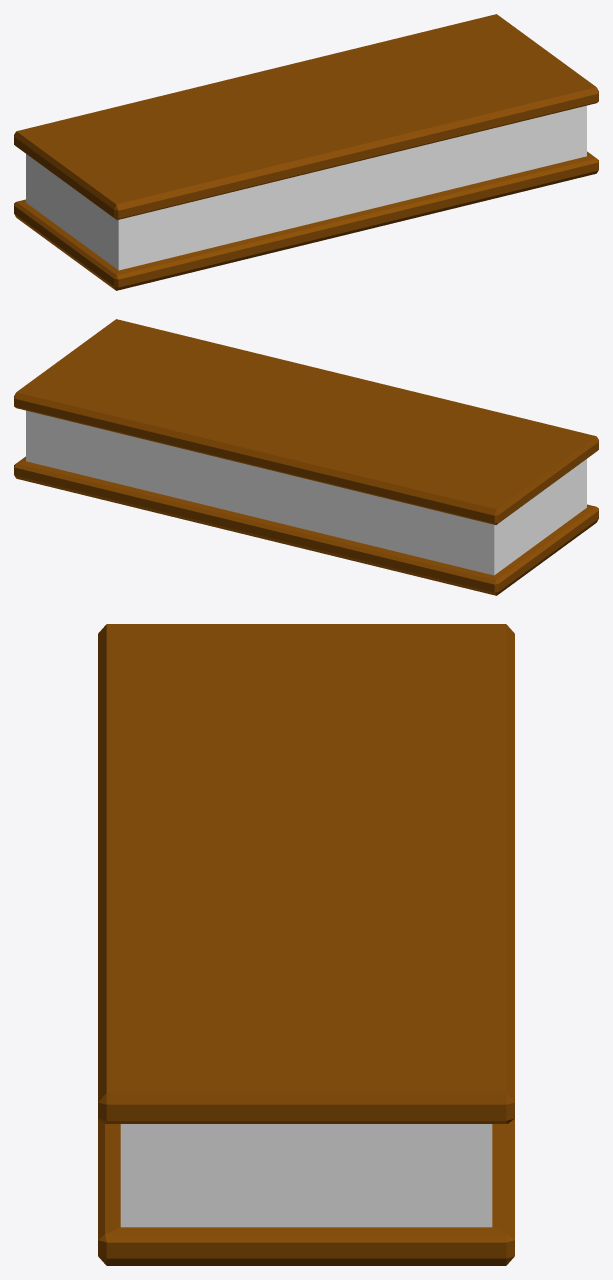
Rendered from Suelo.fbx.
3 renders of one model, top to bottom at view 1: azimuth 30°, elevation 25°; view 2: azimuth 150°, elevation 25°; view 3: azimuth 270°, elevation 25°, orthographic. The views are drawn at different scales.
Parts seen in each view (by area): view 1: Suelo; view 2: Suelo; view 3: Suelo.
Part boxes in pixels (<box>): Suelo: <box>14,14,598,290</box>; Suelo: <box>14,319,598,595</box>; Suelo: <box>98,624,514,1265</box>.
Size of the model in its own units: 849 by 145 by 316.
